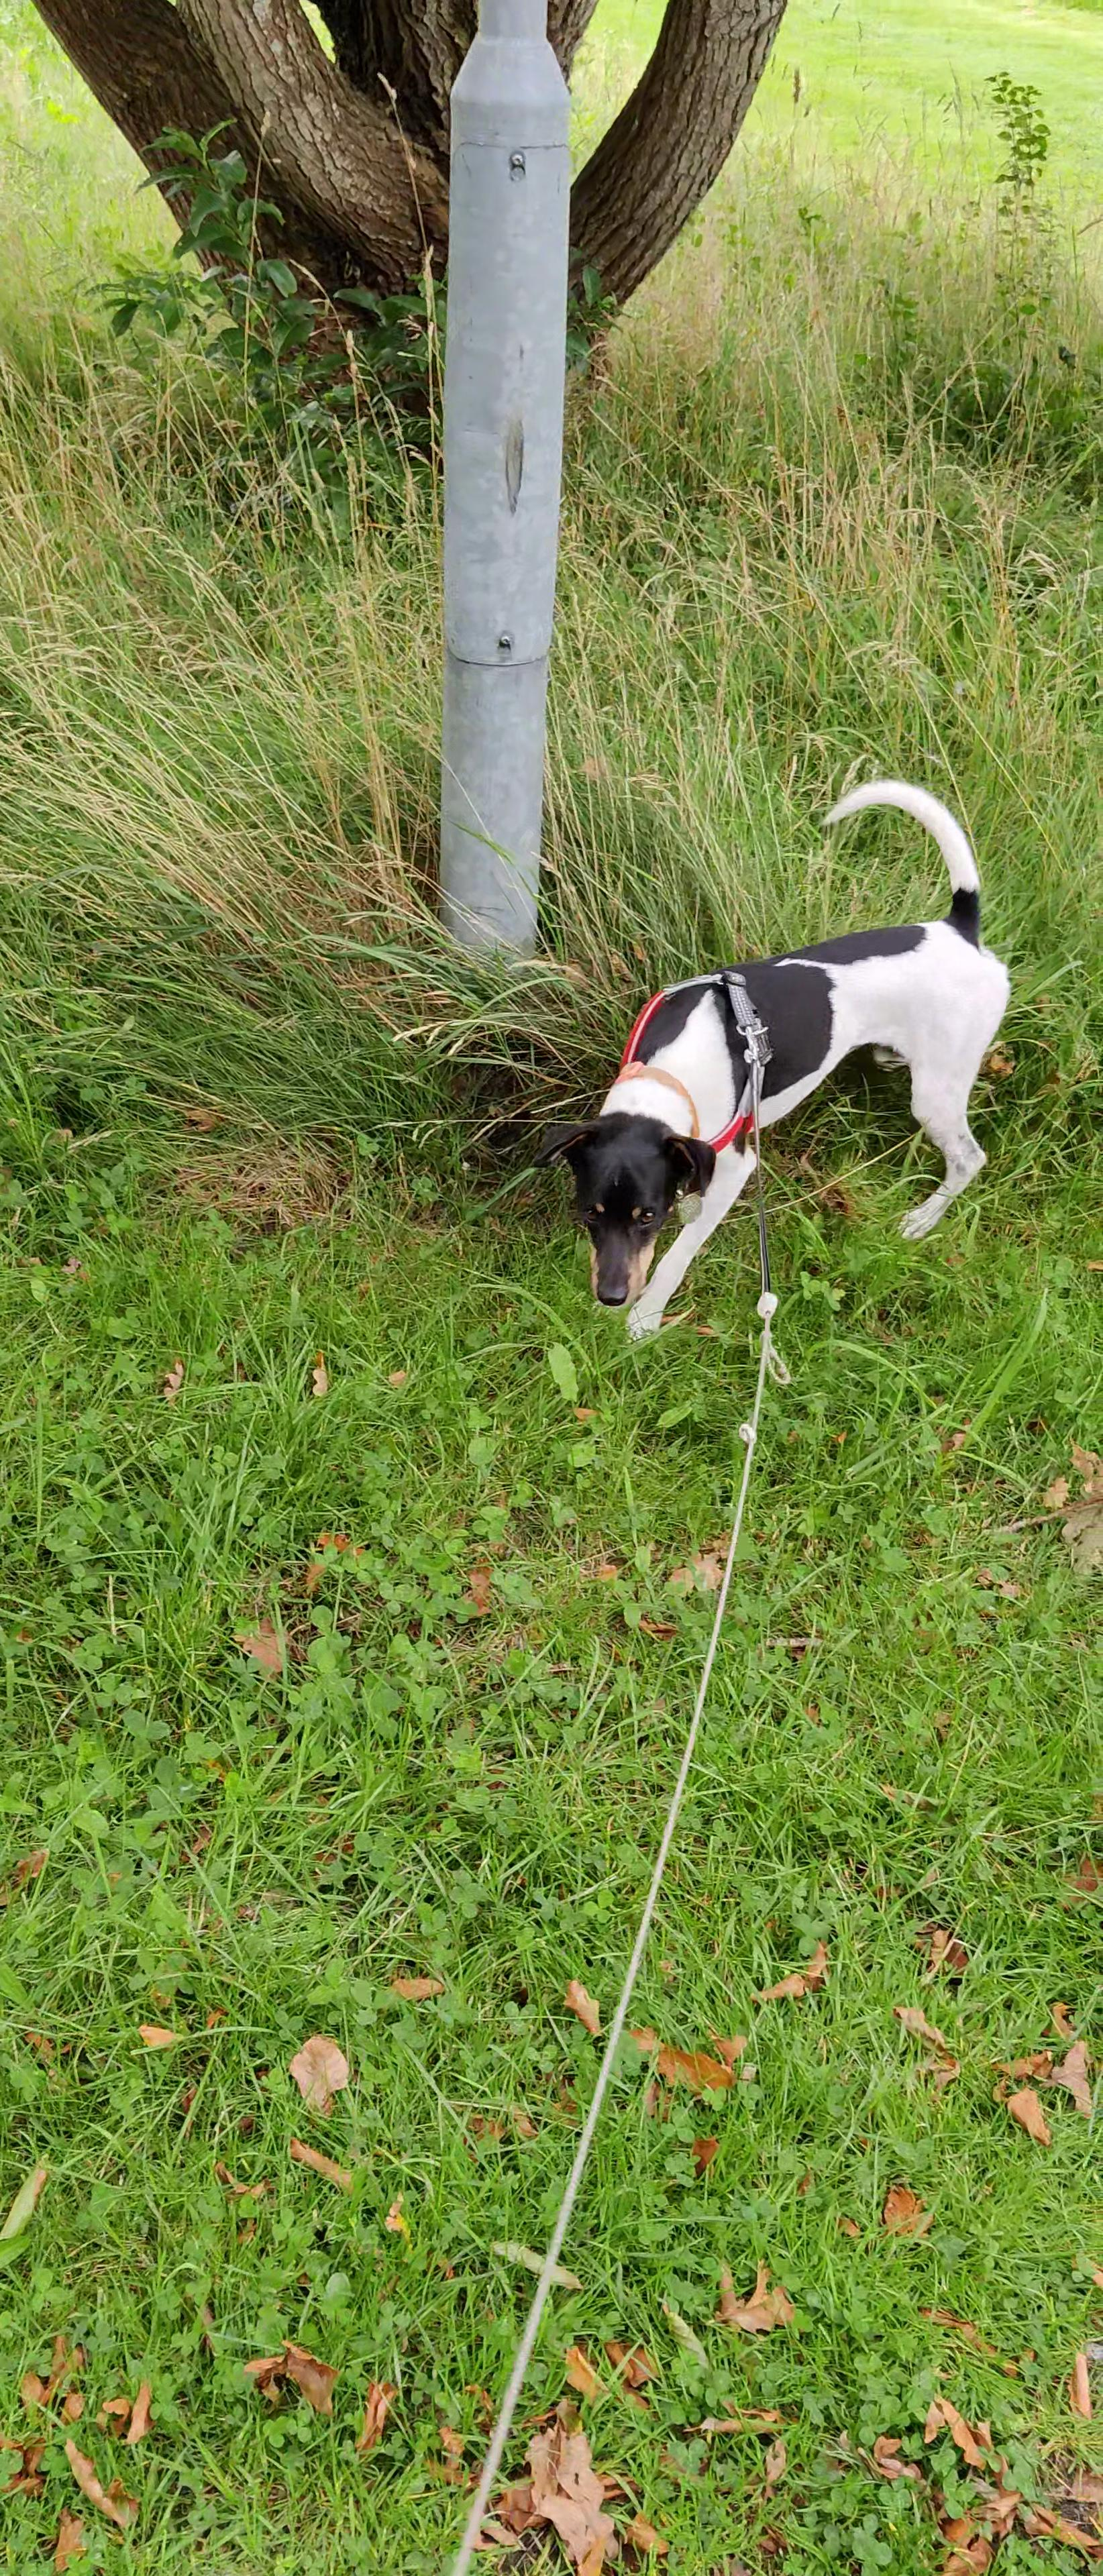Dog: (521, 759, 1026, 1360)
